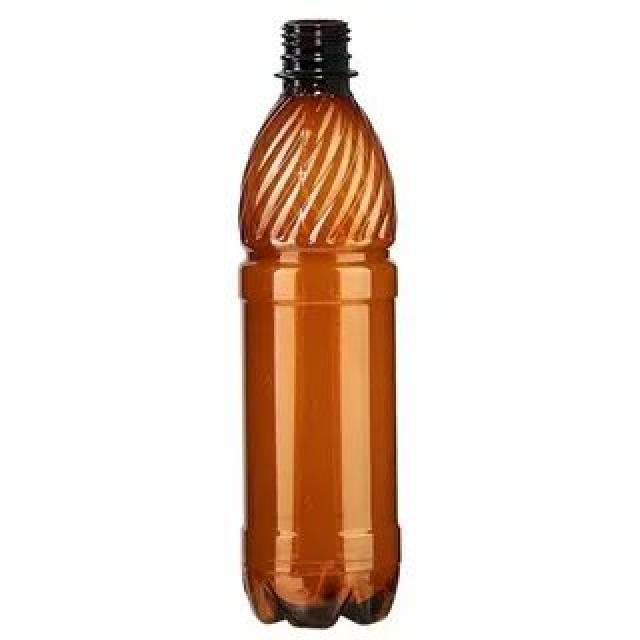brown: (237, 22, 400, 628)
